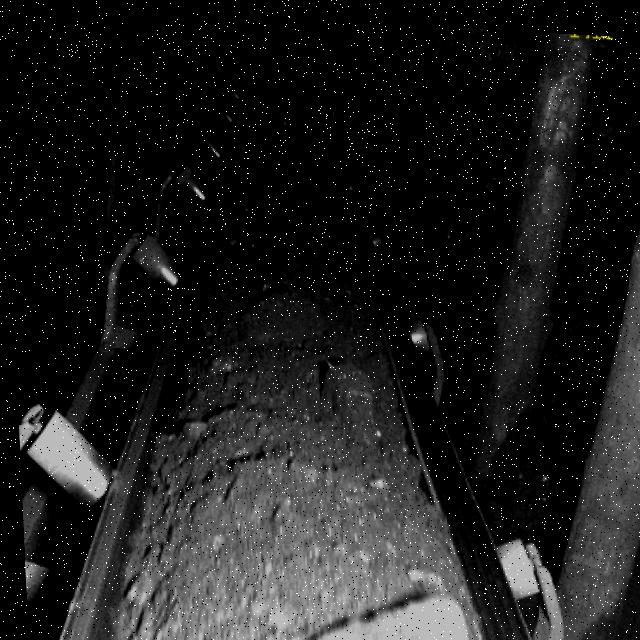large_sized_coal: (260, 580, 474, 640), (233, 283, 330, 347), (313, 354, 375, 422)
